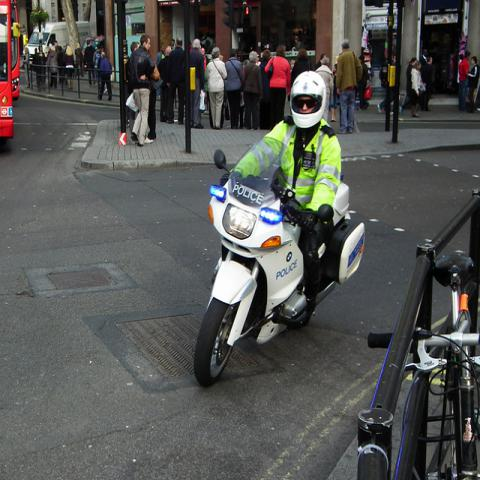bus: (2, 2, 22, 152), (10, 0, 21, 101)
motorcycle: (192, 144, 366, 392)
truck: (22, 19, 68, 67)
